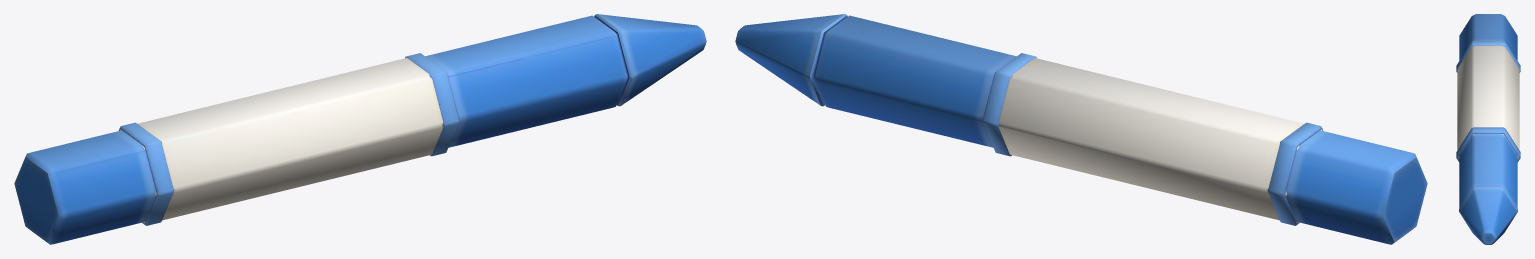
Rendered from toy_crayon_blue.glb.
3 views of the same model, side by side, from view 1: azimuth 30°, elevation 25°; view 2: azimuth 150°, elevation 25°; view 3: azimuth 270°, elevation 25° (orthographic). The views are drawn at different scales.
Visible parts, largest first — view 1: prop; view 2: prop; view 3: prop.
Part boxes in pixels (x1=…): prop: x1=14, y1=14, x2=706, y2=244; prop: x1=735, y1=14, x2=1427, y2=244; prop: x1=1456, y1=14, x2=1520, y2=244.
Size of the model in its own units: 7 by 0.8314 by 0.94.
1 material, 1 textured.
